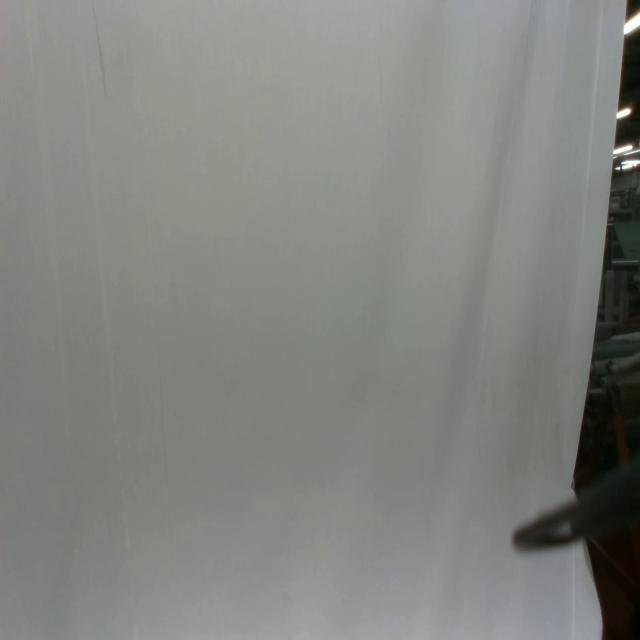crease: (27, 2, 142, 630)
